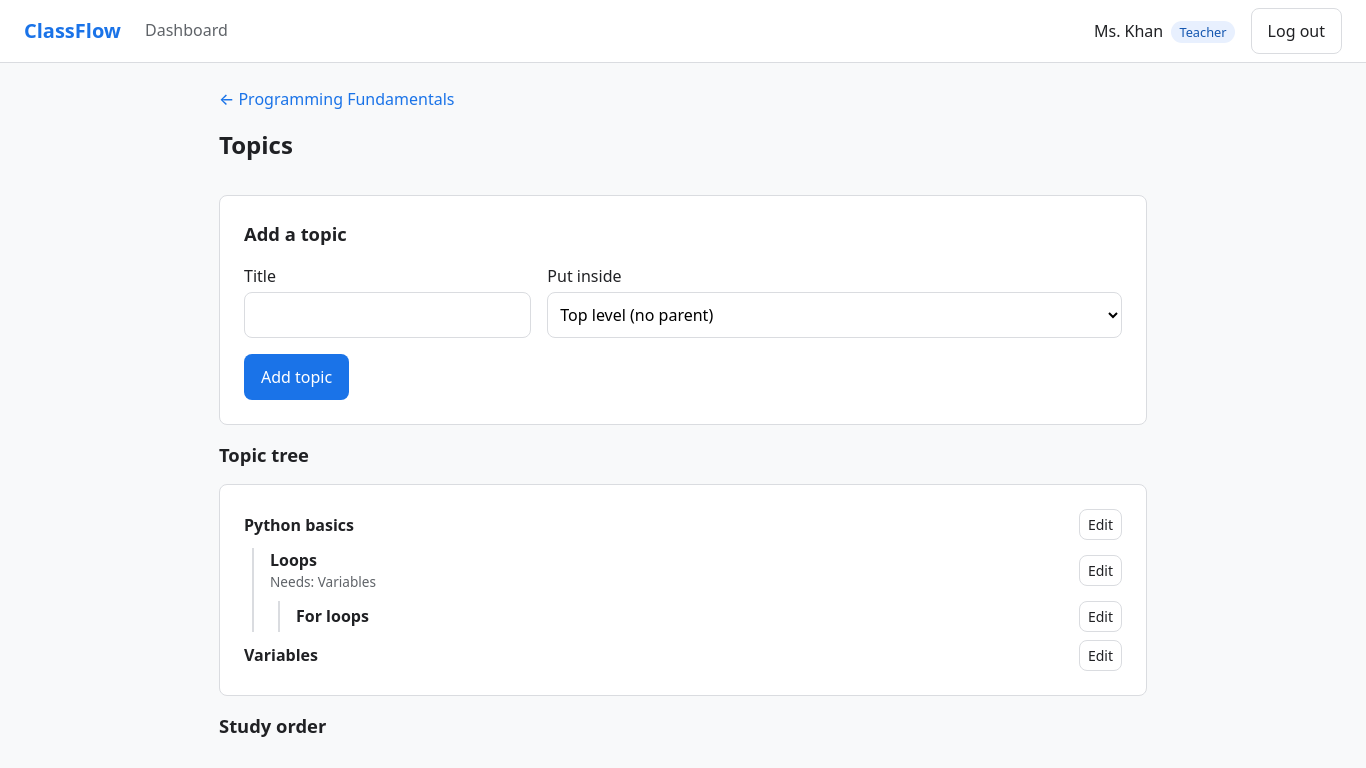
Test: topics page (teacher) › renames a topic, sending only the title
Step 1. Click the button "Edit" in the row of "Needs:" → (1100, 570), box [1079, 555, 1122, 586]
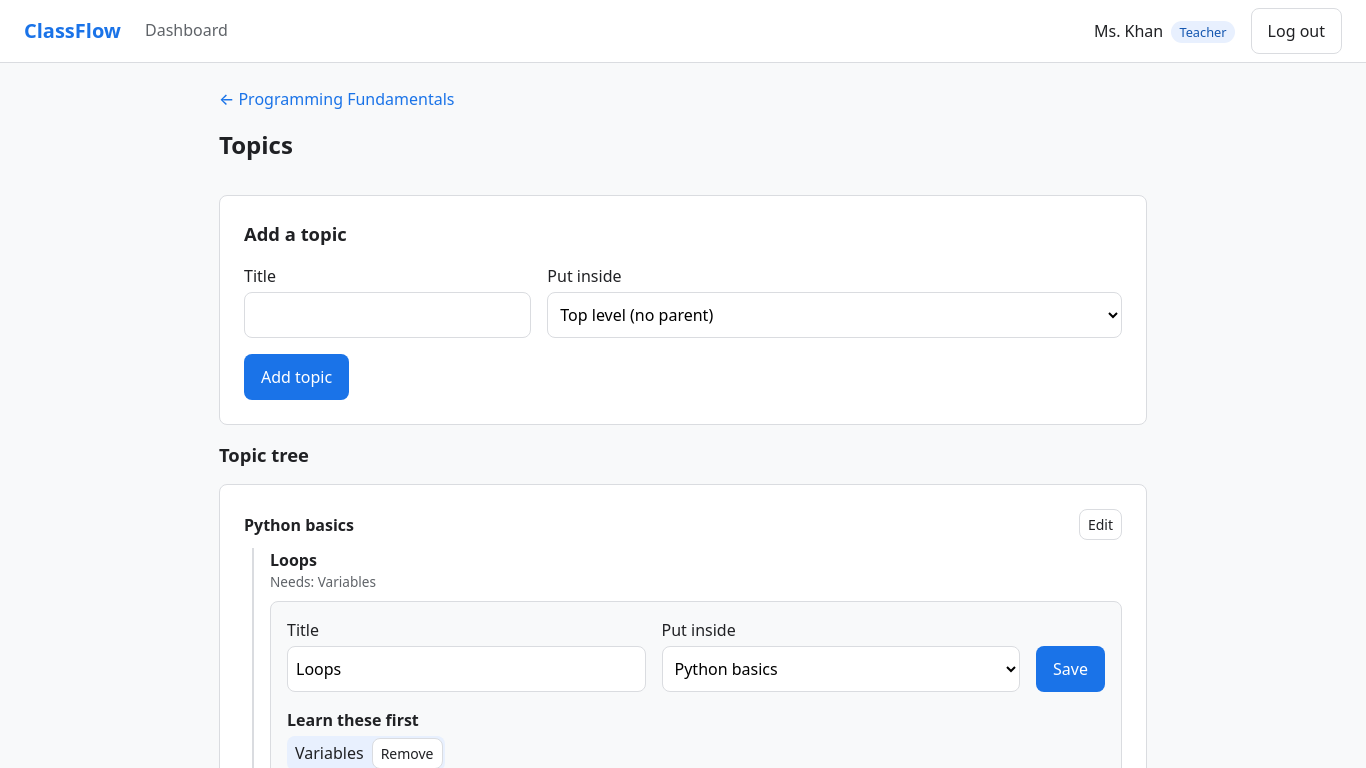
Step 2. Replace the text in the field labelled "Title" below "Needs:" with "Loops and ranges" → (466, 669), box [287, 646, 646, 692]
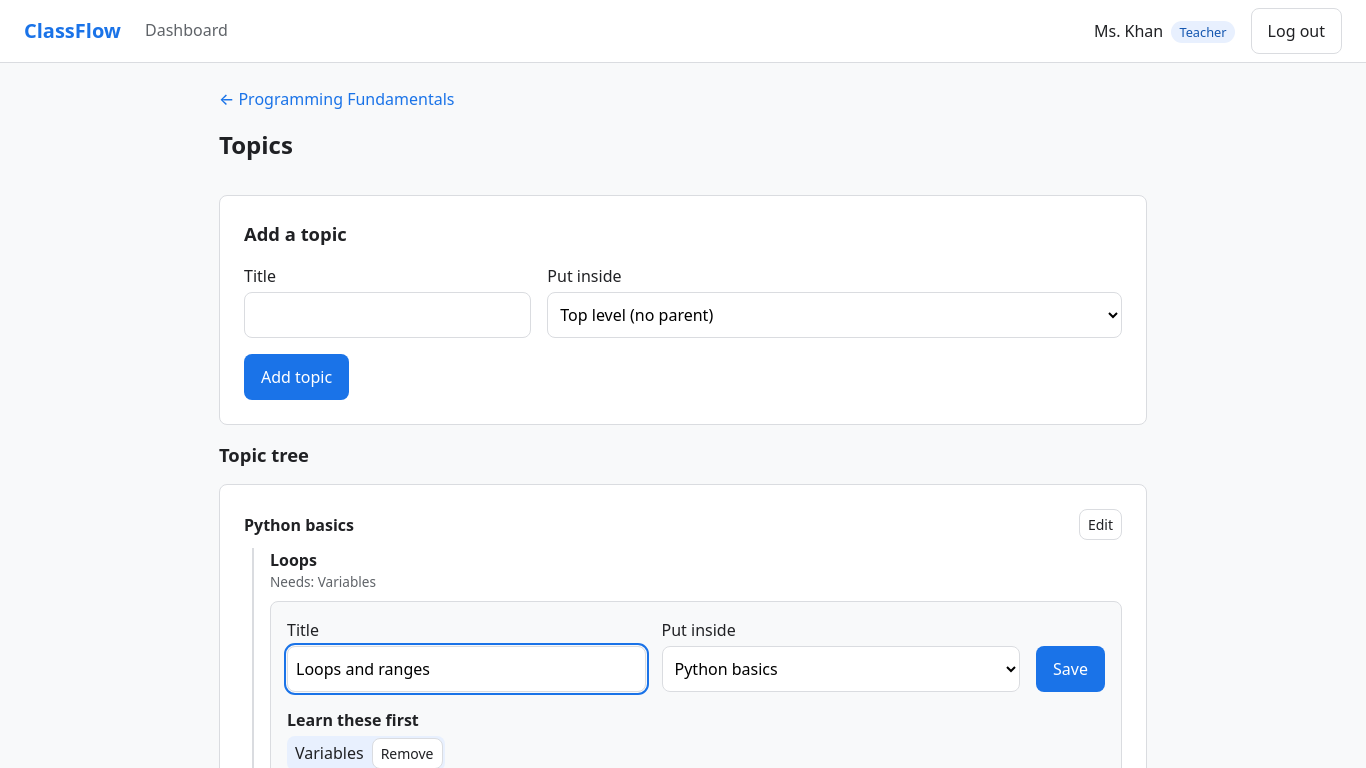
Step 3. Click the button "Save" → (1071, 669), box [1036, 646, 1105, 692]
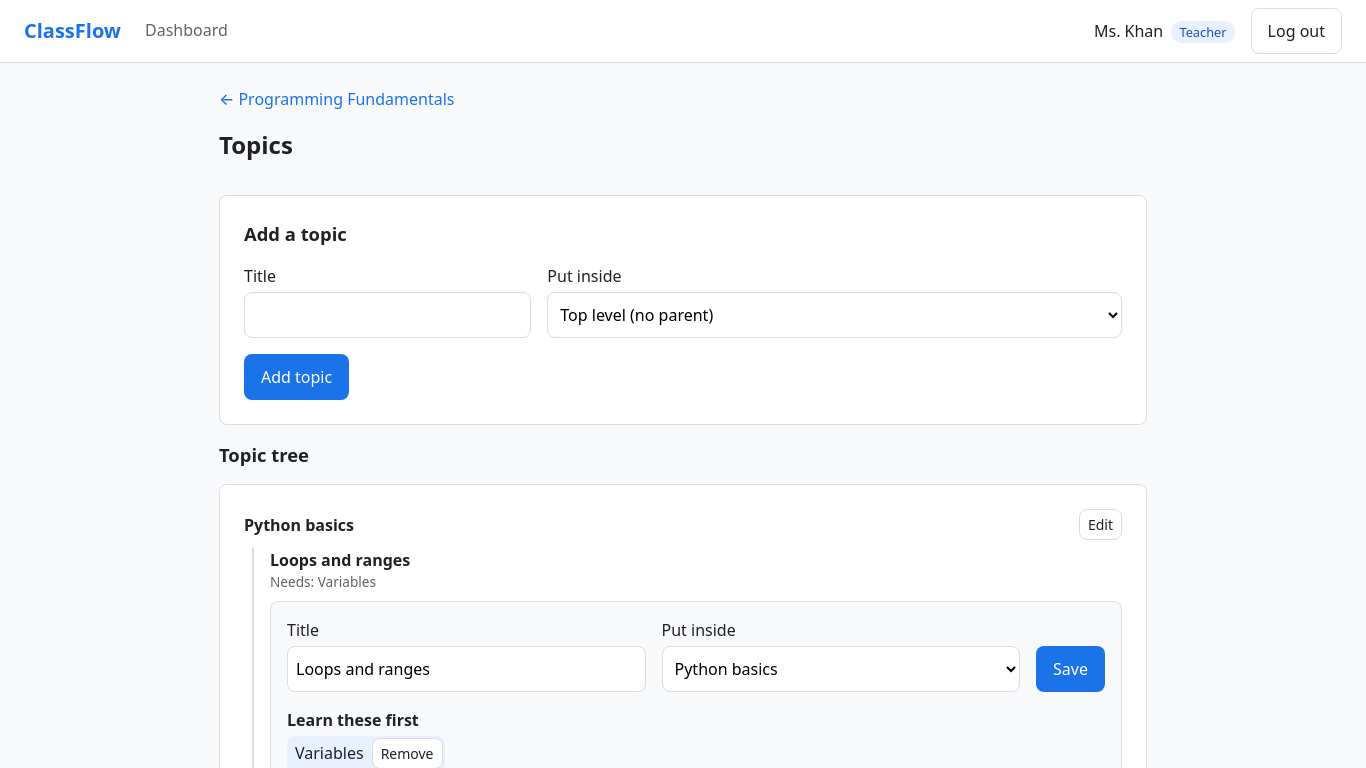
Expected: the text "Loops and ranges" is shown, [270, 548, 410, 572]
